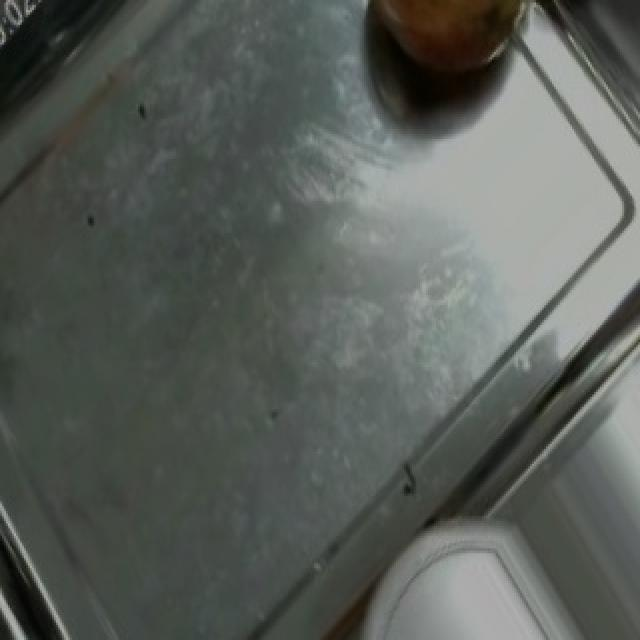fruit: (364, 521, 596, 640), (356, 0, 550, 99)
